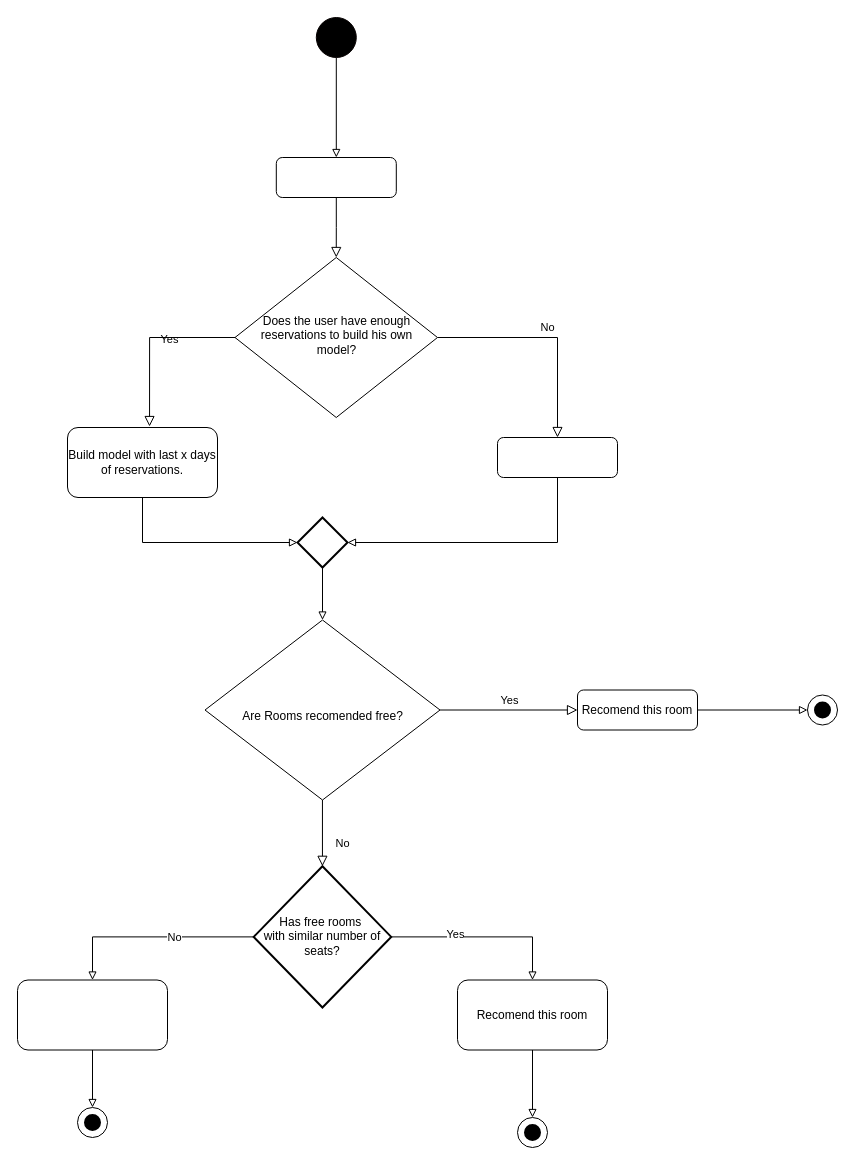
Image size: 855x1165. Some labels were removed from this diagram. Each missing label, with the centre of its shape:
"Build model with all users with same level" goes at pixel 557 457.
"Dont recomend any room" goes at pixel 92 1014.
"User request room" goes at pixel 335 177.
